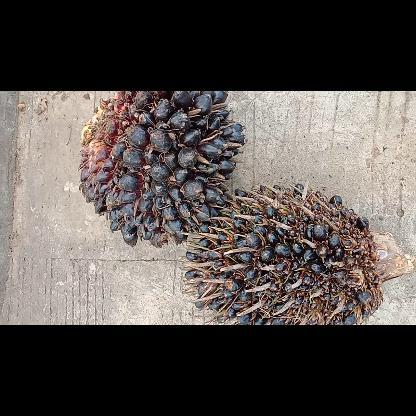TBS mentah: (182, 180, 392, 324), (76, 91, 248, 251)
